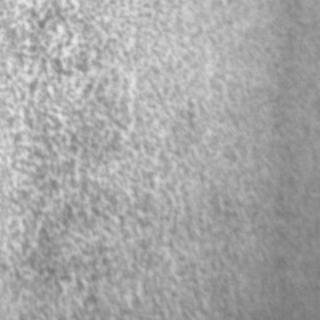pitted_surface: (1, 1, 236, 316)
